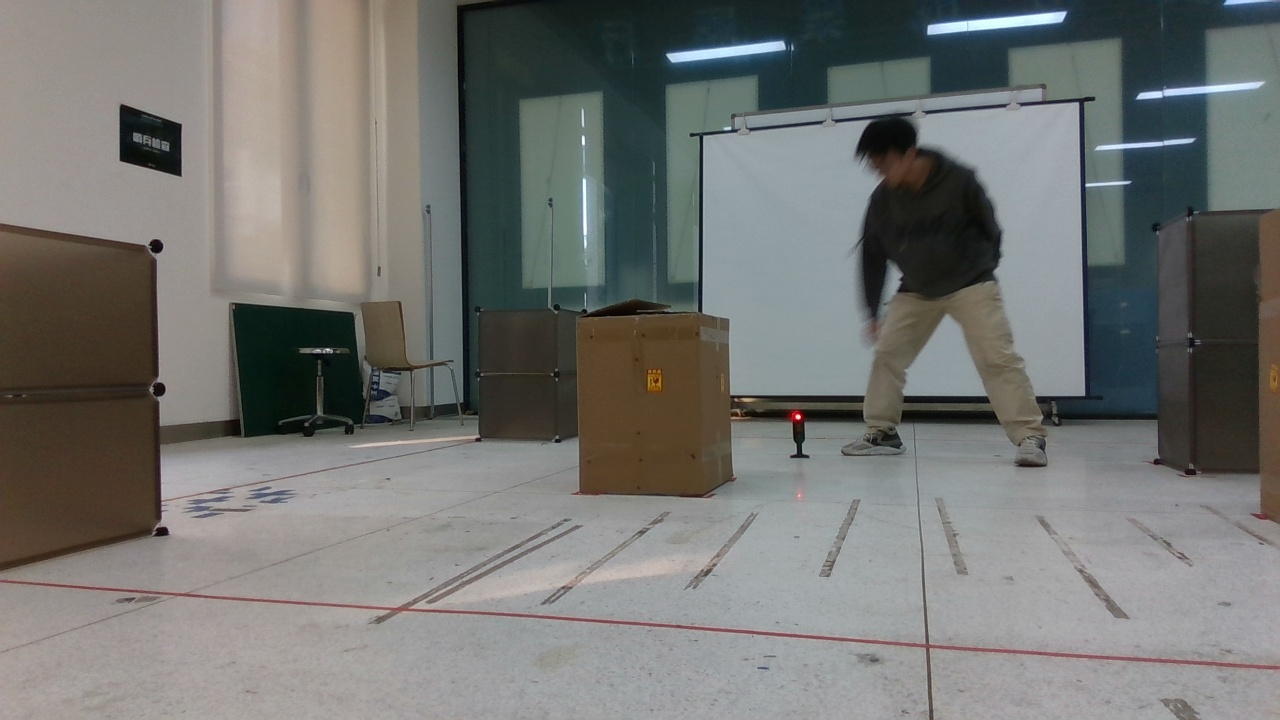red_light: (787, 406, 817, 459)
